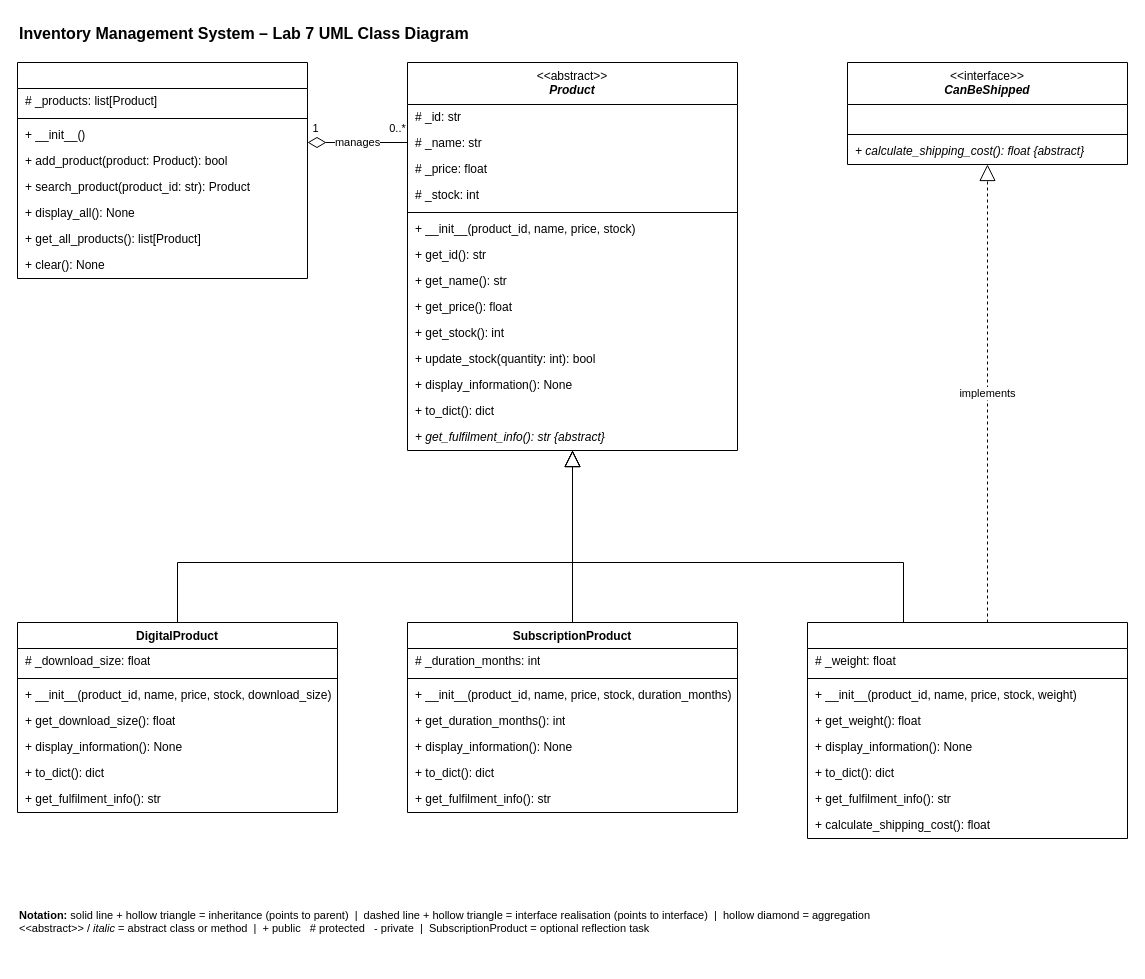
This 1145x979 diagram has some shape labels left out. Each missing label, with the box of its shape:
Inventory: (16, 62, 308, 278)
PhysicalProduct: (806, 622, 1128, 838)
